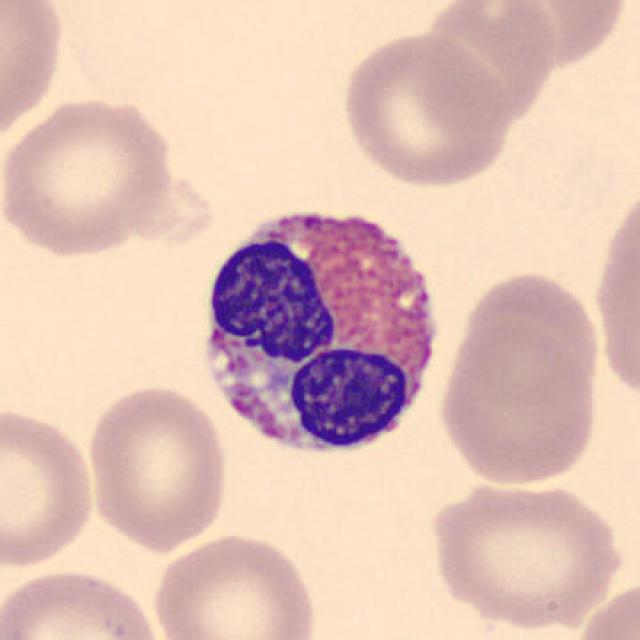Eosinophil: (189, 188, 455, 472)
RBC: (423, 476, 626, 633), (0, 93, 180, 261), (336, 28, 516, 190), (433, 317, 602, 488), (82, 381, 233, 555), (450, 268, 606, 421), (406, 0, 563, 139), (148, 529, 322, 640), (0, 400, 100, 575), (0, 564, 171, 640), (588, 180, 640, 411), (475, 0, 633, 72), (0, 0, 69, 150), (569, 575, 640, 640)
